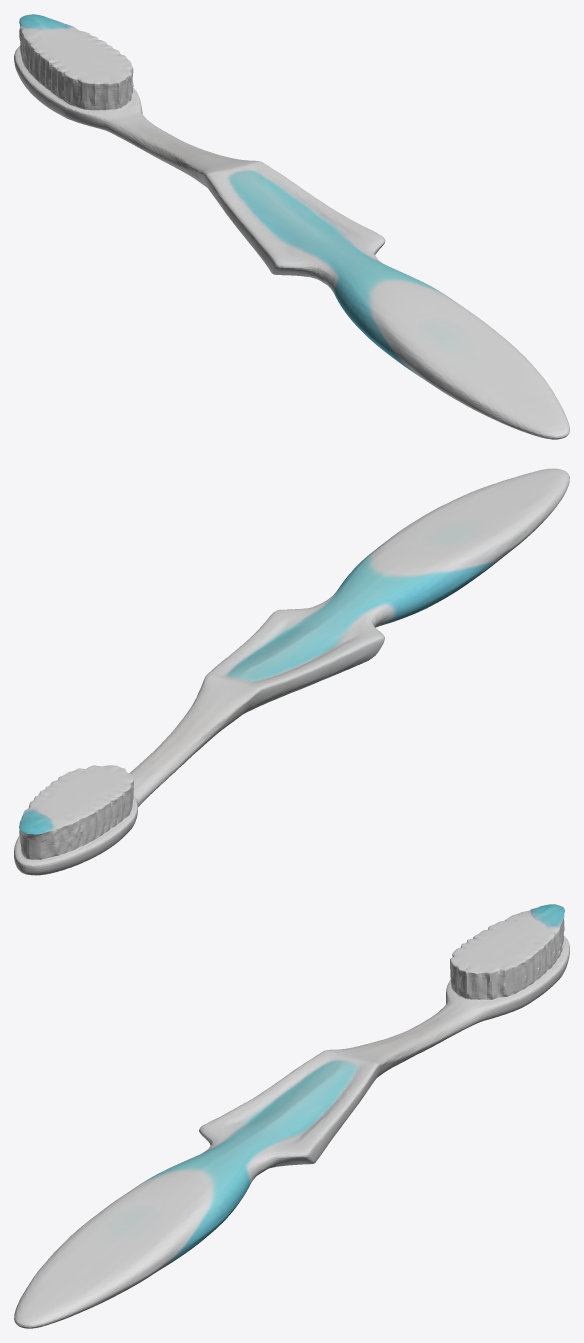
File: obj2_sam3d_obb.glb
The picture shows the model from 3 angles, top to bottom: view 1: azimuth 30°, elevation 25°; view 2: azimuth 150°, elevation 25°; view 3: azimuth 330°, elevation 25°; orthographic projection.
Visible parts, largest first — view 1: world; view 2: world; view 3: world.
Boxes of the visible parts, x1=… form: world: x1=14, y1=14, x2=569, y2=439; world: x1=14, y1=468, x2=569, y2=875; world: x1=14, y1=904, x2=569, y2=1328.
Size of the model in its own units: 0.0176 by 0.00725 by 0.15.
